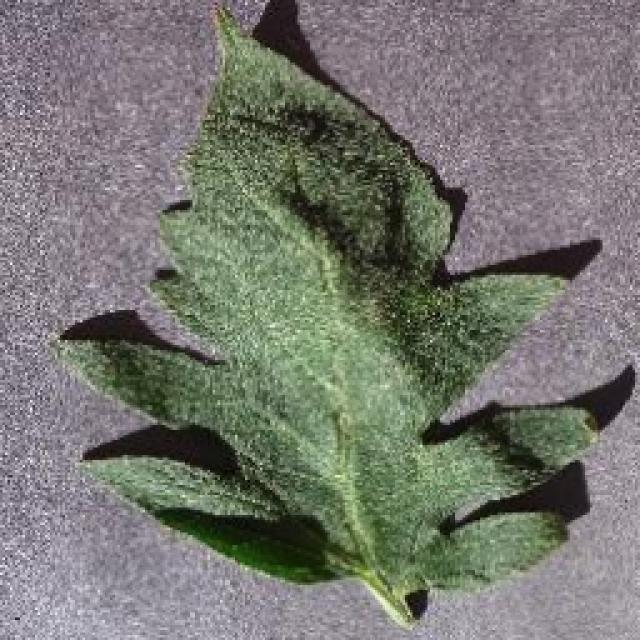Healthy: (50, 0, 635, 640)
